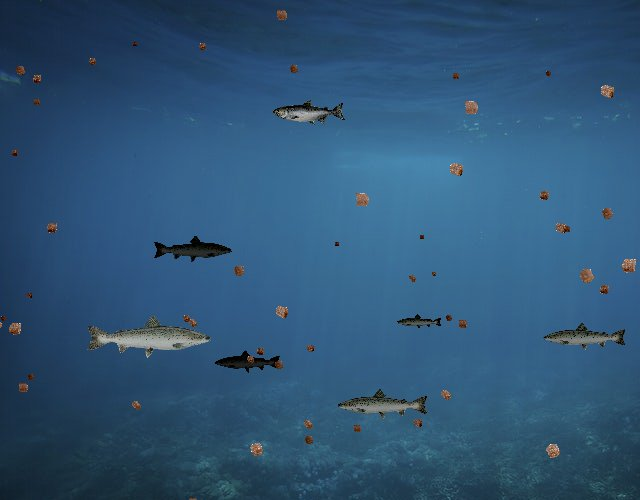Fish: (84, 313, 213, 359), (337, 388, 431, 421), (542, 321, 628, 352), (152, 235, 233, 264), (274, 100, 347, 126), (214, 349, 282, 374), (396, 314, 443, 331)
Pellet: (242, 435, 270, 463), (614, 250, 640, 280), (268, 298, 295, 325), (10, 60, 31, 81), (84, 54, 100, 70), (542, 67, 555, 80), (23, 290, 35, 302)
